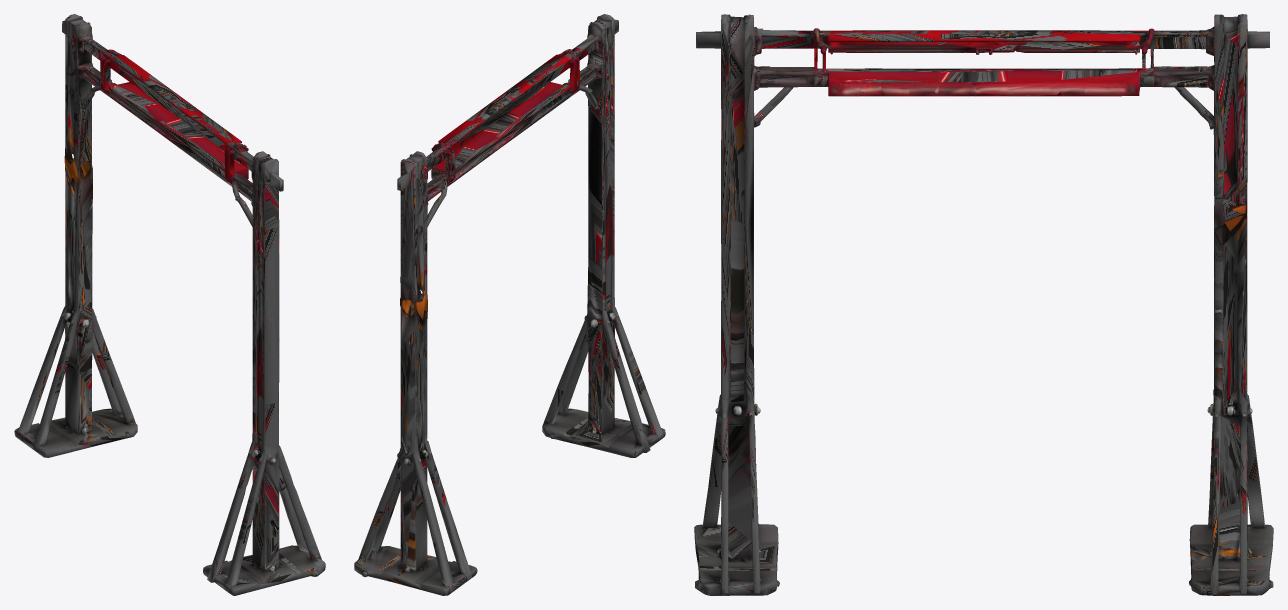
File: trial_gate.glb
The picture shows the model from 3 angles, left to right: view 1: azimuth 30°, elevation 25°; view 2: azimuth 150°, elevation 25°; view 3: azimuth 270°, elevation 25°; orthographic projection. The views are drawn at different scales.
Visible parts, largest first — view 1: tripo_node_13518bfc-069c-4363-9e53-a1643ddef904; view 2: tripo_node_13518bfc-069c-4363-9e53-a1643ddef904; view 3: tripo_node_13518bfc-069c-4363-9e53-a1643ddef904.
Boxes of the visible parts, box(x1,y1,x2,y2) form: tripo_node_13518bfc-069c-4363-9e53-a1643ddef904: box(14, 14, 325, 595); tripo_node_13518bfc-069c-4363-9e53-a1643ddef904: box(354, 14, 665, 595); tripo_node_13518bfc-069c-4363-9e53-a1643ddef904: box(694, 14, 1273, 595).
Bounding box in the file's own units: 0.2579 × 0.9994 × 0.9545.
Materials: 1 (1 with a texture image).
